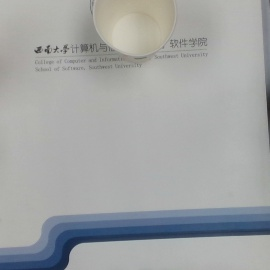cup: (89, 1, 178, 56)
